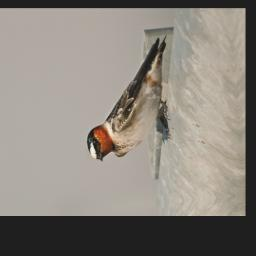Swallow: (76, 34, 177, 165)
